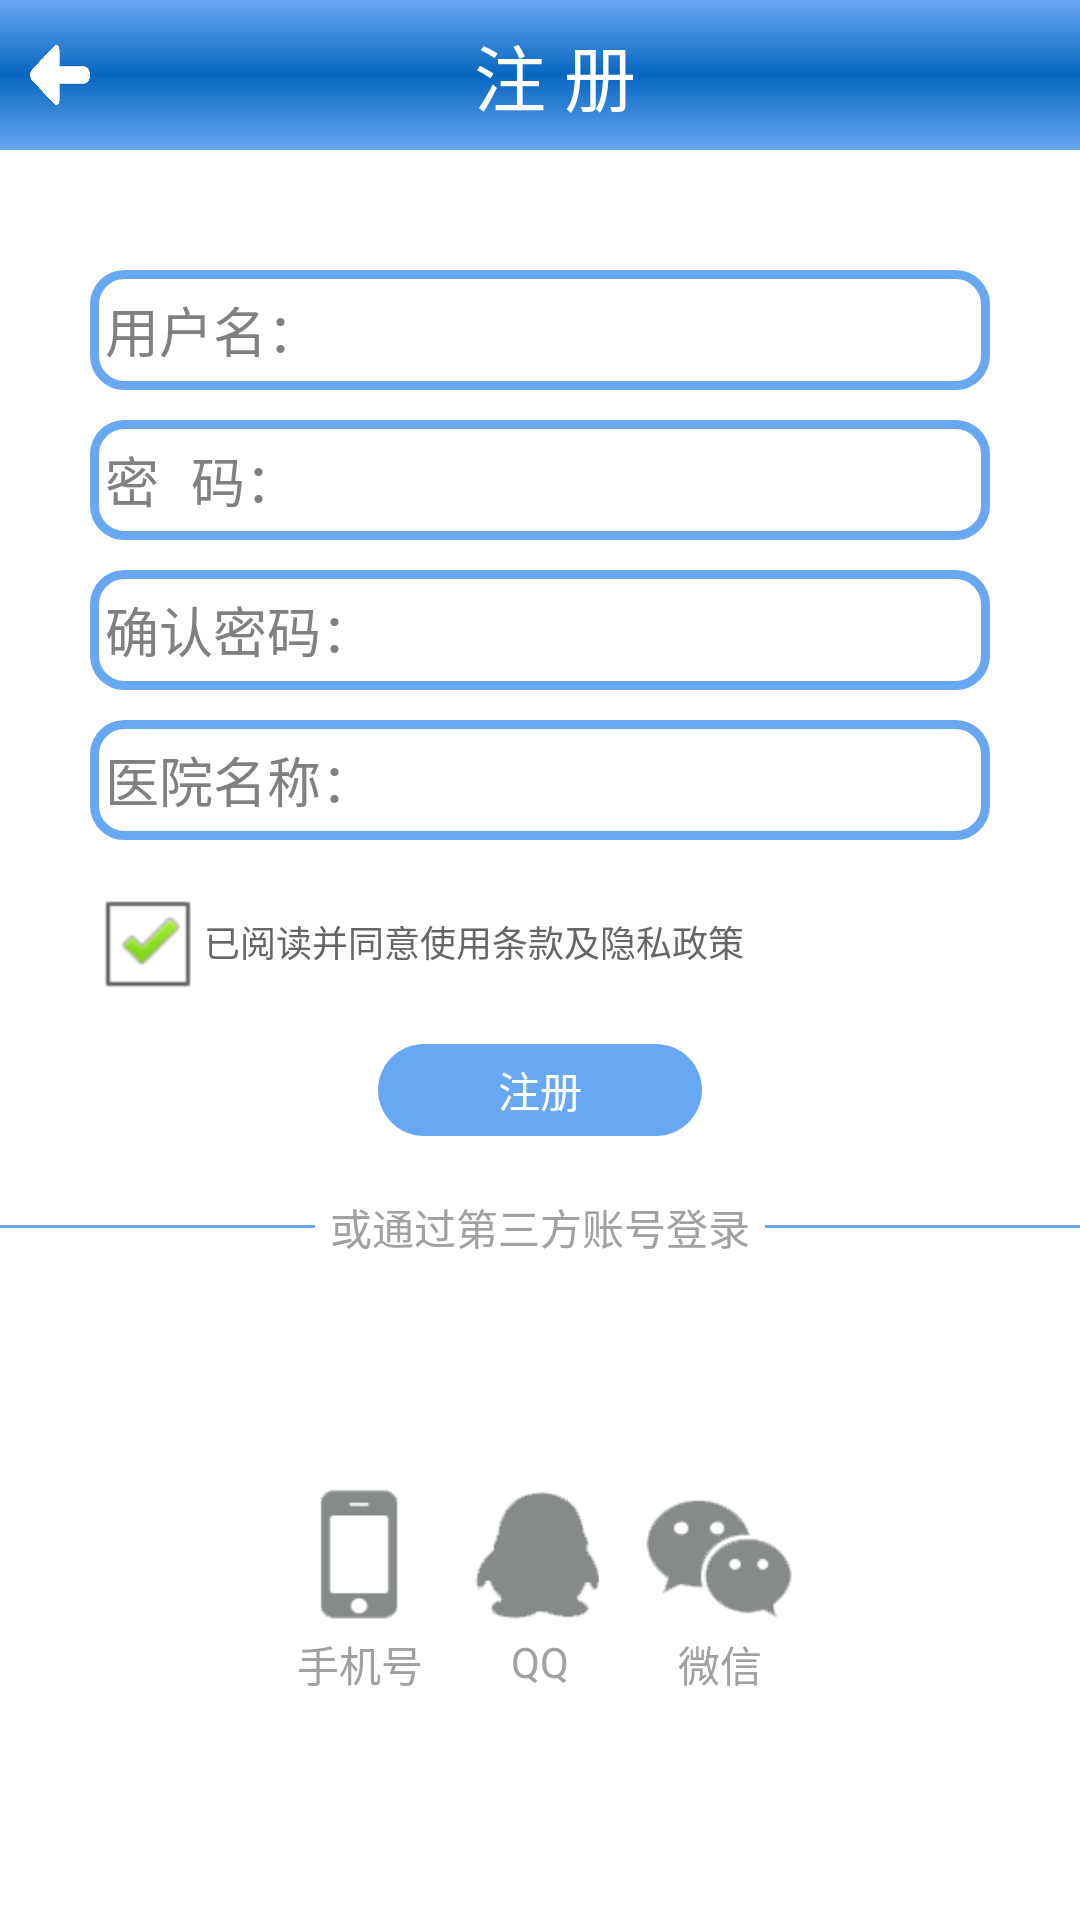

Named icons in this screenshot (1080x1920) and their bounding boxes, bbox=(x1, y1, x2, y2):
left arrow: bbox=(30, 45, 90, 105)
